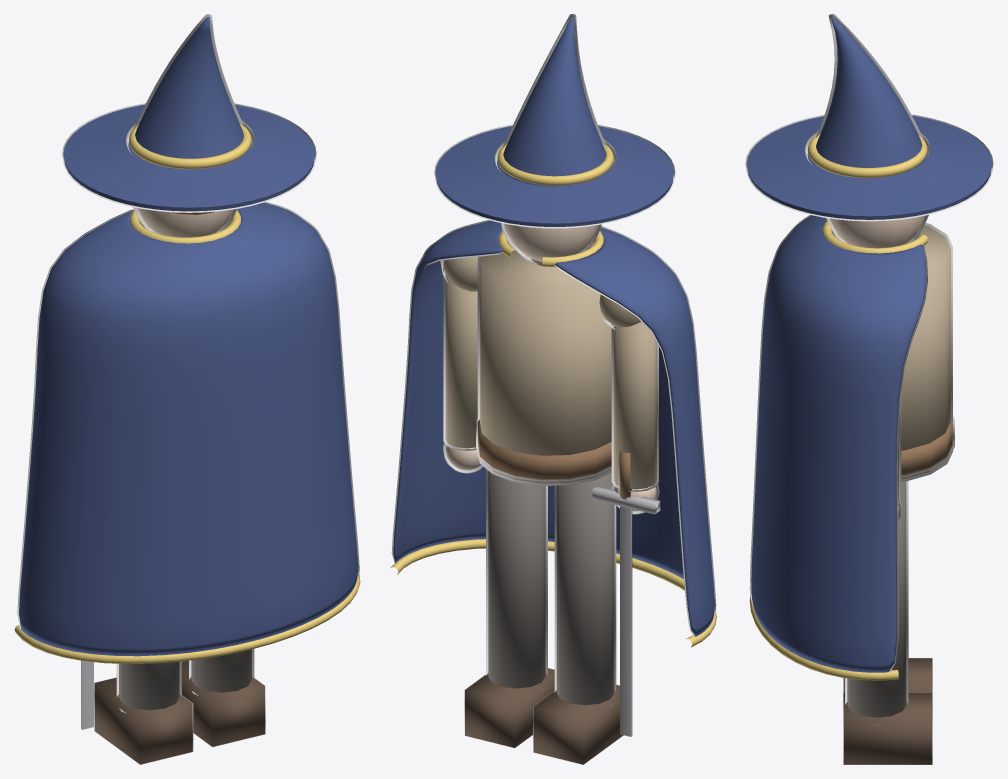
File: player.glb
The picture shows the model from 3 angles, left to right: view 1: azimuth 30°, elevation 25°; view 2: azimuth 150°, elevation 25°; view 3: azimuth 270°, elevation 25°; orthographic projection. The views are drawn at different scales.
Parts seen in each view (by area): view 1: Cloak, Hat_Brim, Hat, Boot_R, Boot_L, Cloak_Trim, Leg_R, Leg_L, Head, Hat_Band, Collar_Trim, Sword_Blade; view 2: Cloak, Torso, Hat_Brim, Leg_R, Leg_L, Hat, Arm_R, Arm_L, Boot_R, Boot_L, Belt, Sword_Blade (+9 smaller); view 3: Cloak, Hat_Brim, Hat, Torso, Boot_L, Leg_L, Head, Hat_Band, Belt, Cloak_Trim, Boot_R, Collar_Trim.
Part boxes in pixels (x1,y1,x2,y2): Cloak: (17, 202, 359, 656); Hat_Brim: (62, 103, 316, 212); Hat: (133, 14, 244, 158); Boot_R: (94, 677, 193, 764); Boot_L: (182, 660, 265, 747); Cloak_Trim: (14, 573, 360, 663); Leg_R: (116, 661, 181, 713); Leg_L: (189, 649, 254, 695); Head: (133, 207, 237, 237); Hat_Band: (126, 121, 254, 169); Collar_Trim: (129, 210, 240, 243); Sword_Blade: (81, 660, 93, 729); Cloak: (391, 220, 716, 637); Torso: (477, 241, 611, 485); Hat_Brim: (434, 124, 675, 228); Leg_R: (554, 472, 616, 708); Leg_L: (486, 469, 547, 691); Hat: (501, 14, 606, 186); Arm_R: (611, 322, 658, 491); Arm_L: (443, 263, 477, 450); Boot_R: (533, 684, 623, 764); Boot_L: (464, 668, 554, 748); Belt: (476, 418, 611, 481); Sword_Blade: (620, 506, 632, 736); Cloak: (749, 215, 927, 672); Hat_Brim: (745, 114, 993, 221); Hat: (815, 14, 925, 178); Torso: (832, 223, 952, 481); Boot_L: (843, 692, 932, 764); Leg_L: (845, 481, 908, 725); Head: (826, 215, 928, 248); Hat_Band: (804, 130, 930, 178); Belt: (901, 416, 954, 477); Cloak_Trim: (749, 596, 898, 680); Boot_R: (843, 658, 932, 692); Collar_Trim: (822, 221, 928, 253).
Bounding box in the file's own units: 0.6786 × 1.48 × 0.4607.
